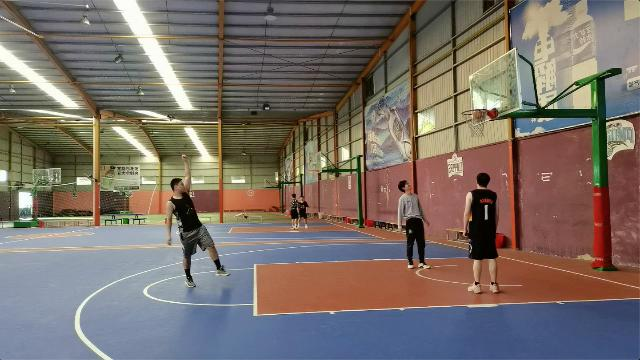basket: (460, 108, 488, 137)
goal: (472, 107, 486, 120)
